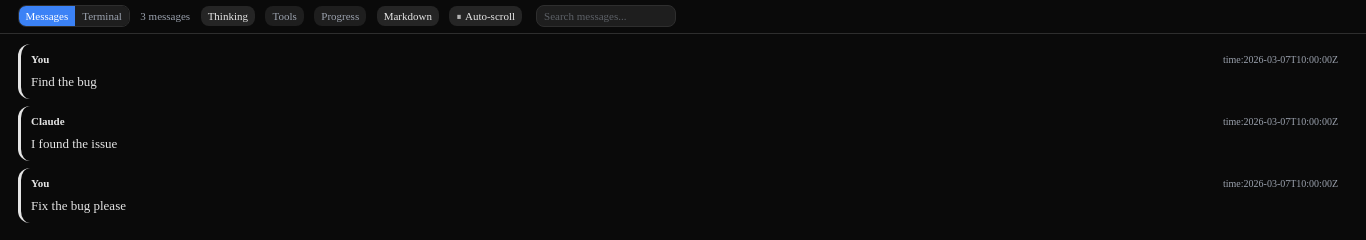
it: MessageList search › clears search on Escape key
In the search field labelled "Search messages": point(606, 16) x1=536 y1=5 x2=676 y2=27, type "bug"
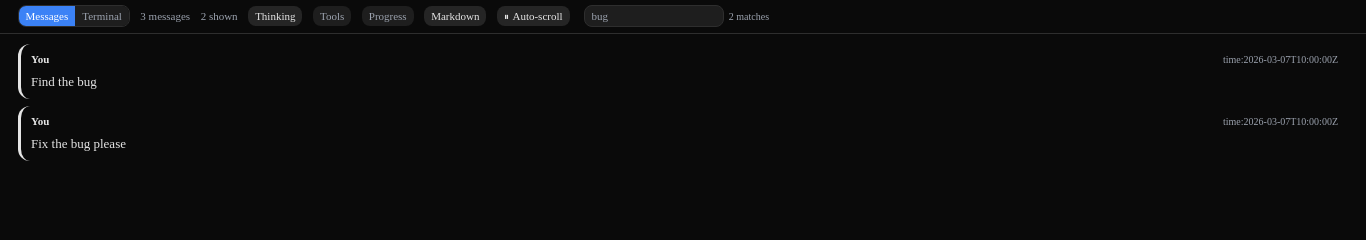
Expected: the text "I found the issue" is gone
Press Escape
Press Escape in the search field named "Search messages", box x1=584 y1=5 x2=724 y2=27
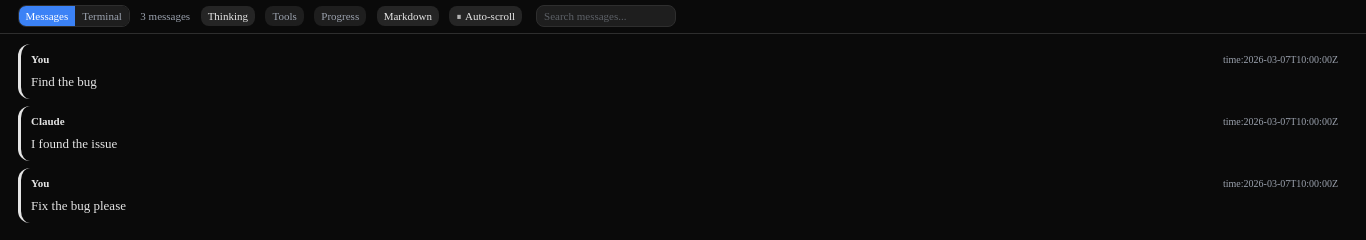
Expected: the text "Find the bug" is shown, x1=31 y1=74 x2=97 y2=89
Expected: the text "I found the issue" is shown, x1=31 y1=136 x2=117 y2=151
